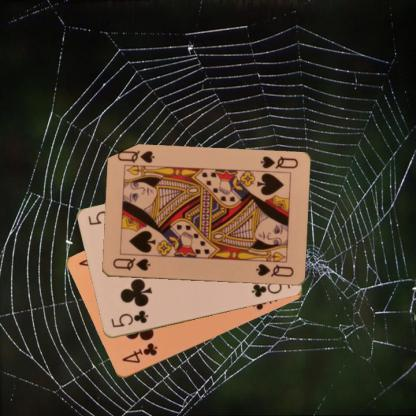4c: (119, 340, 159, 365)
5c: (108, 308, 150, 330)
Qs: (257, 154, 299, 170), (110, 256, 151, 272)
